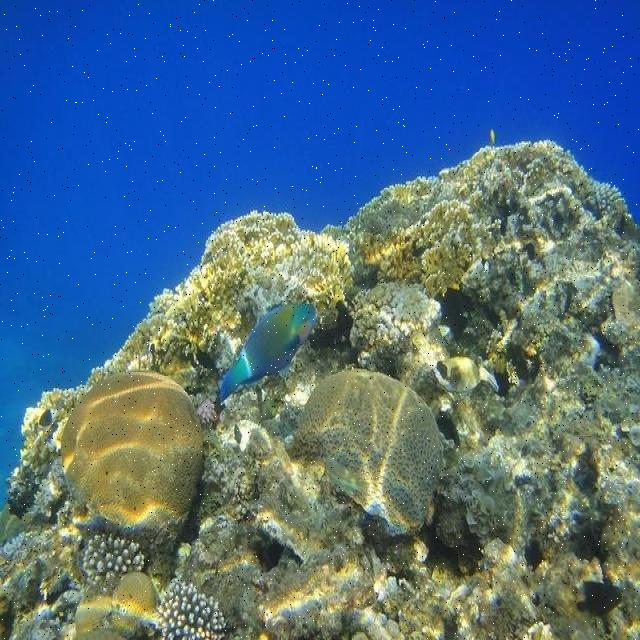fish: (217, 301, 317, 399)
reefs: (20, 141, 627, 480), (292, 369, 442, 534), (60, 370, 206, 527), (161, 578, 225, 639), (84, 535, 143, 584)
